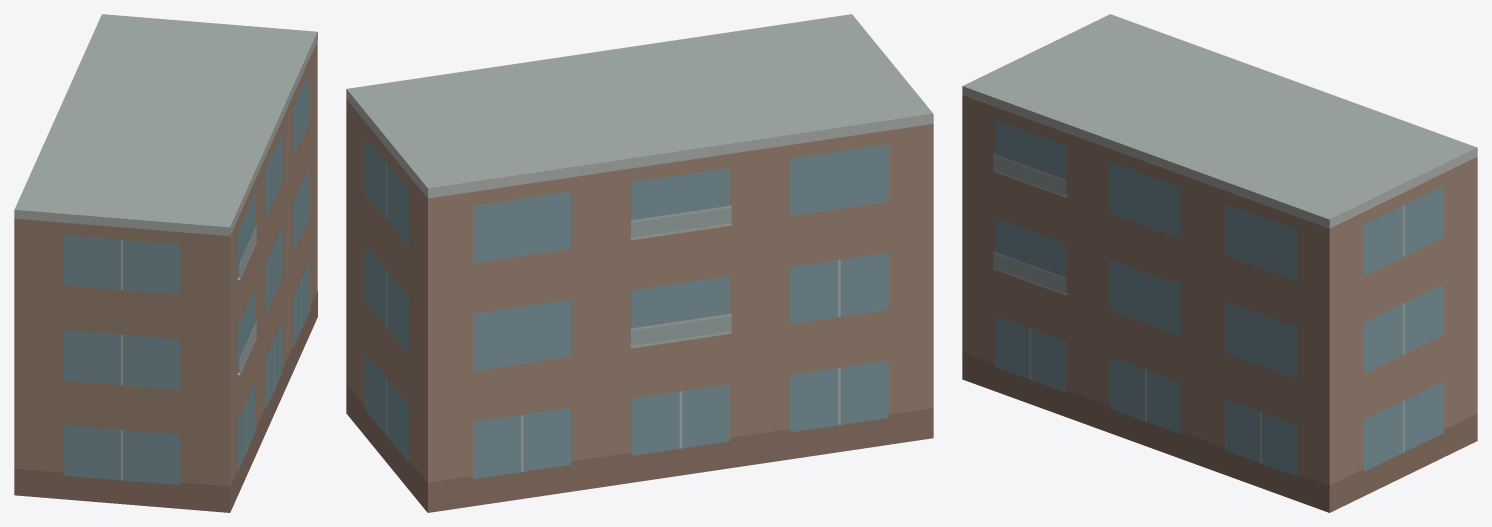
The model's file is survey-upis-32922615.glb.
The picture shows the model from 3 angles, left to right: view 1: azimuth 30°, elevation 25°; view 2: azimuth 150°, elevation 25°; view 3: azimuth 270°, elevation 25°; orthographic projection. The views are drawn at different scales.
Parts seen in each view (by area): view 1: survey-upis-32922615.tmp; view 2: survey-upis-32922615.tmp; view 3: survey-upis-32922615.tmp.
Part boxes in pixels (left/top/right/bottom): survey-upis-32922615.tmp: left=14, top=14, right=317, bottom=512; survey-upis-32922615.tmp: left=346, top=14, right=933, bottom=512; survey-upis-32922615.tmp: left=962, top=14, right=1477, bottom=512.
Size of the model in its own units: 11.89 by 7.9 by 12.59.
